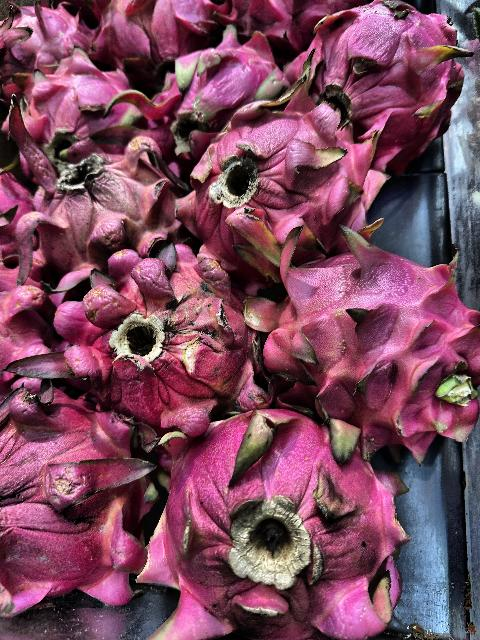buah-naga-matang: (160, 412, 404, 640), (254, 236, 480, 447), (1, 372, 154, 612), (182, 90, 380, 266), (0, 96, 186, 268), (64, 272, 250, 426), (303, 0, 461, 152), (0, 54, 150, 162), (133, 40, 301, 128), (4, 0, 98, 96), (78, 1, 214, 62)
